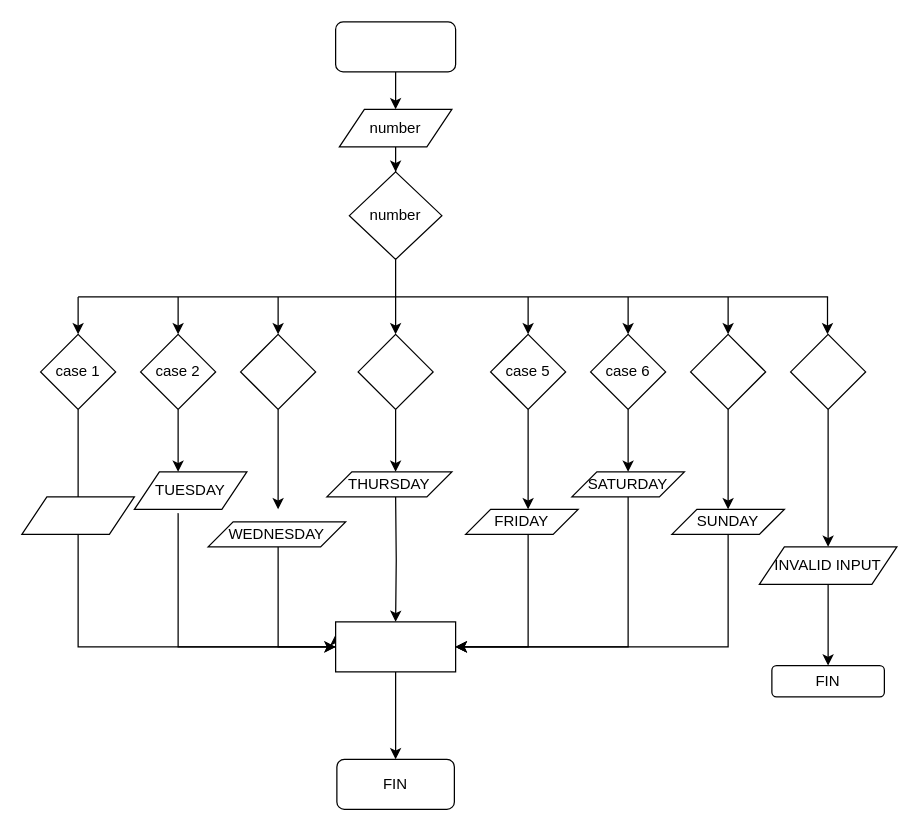
This 919x831 diagram has some shape labels left out. Each missing label, with the centre of its shape:
"break" belongs at (395,646).
"case 3" belongs at (277,371).
"case 4" belongs at (395,371).
"case 7" belongs at (727,371).
"default" belongs at (827,371).
"INICIO" belongs at (395,46).
"MONDAY" belongs at (77,515).
